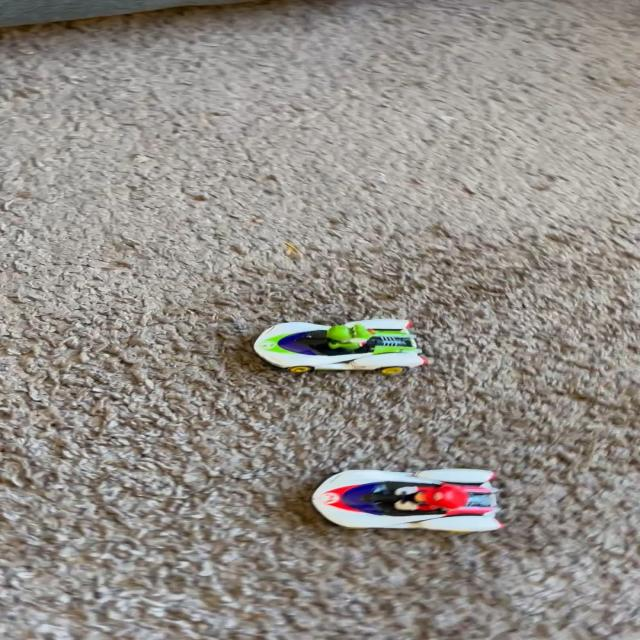mario: (297, 442, 526, 550)
yoshi: (241, 296, 439, 388)
